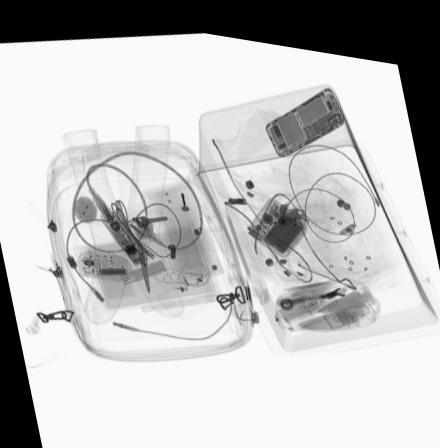Powerbank: (245, 187, 308, 247)
